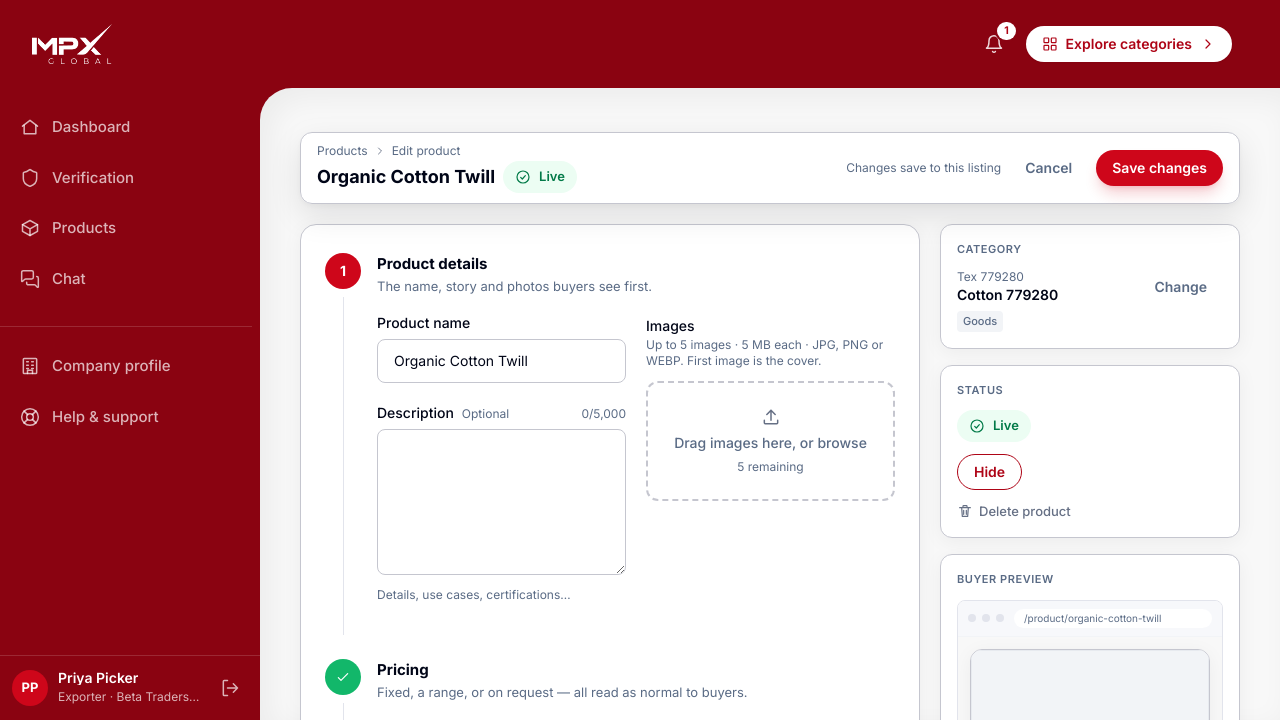
Test: Product form › a server refusal is shown, and the page stays
The image size is (1280, 720).
Expected: the field labelled "Product name" is shown, [377, 338, 626, 382]
Click the button "Save changes".
click(1160, 168)  # box [1096, 150, 1223, 186]
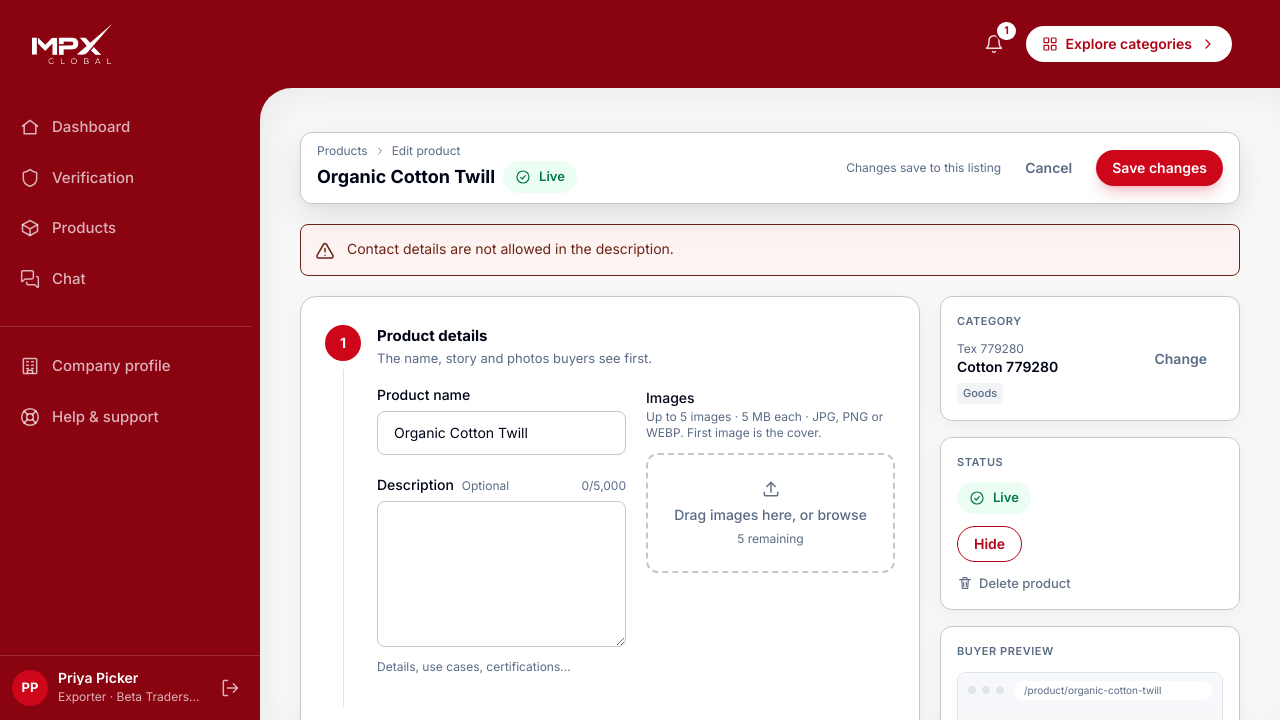
Now the text "Contact details are not allowed in the description." is shown, box [347, 238, 674, 258]
